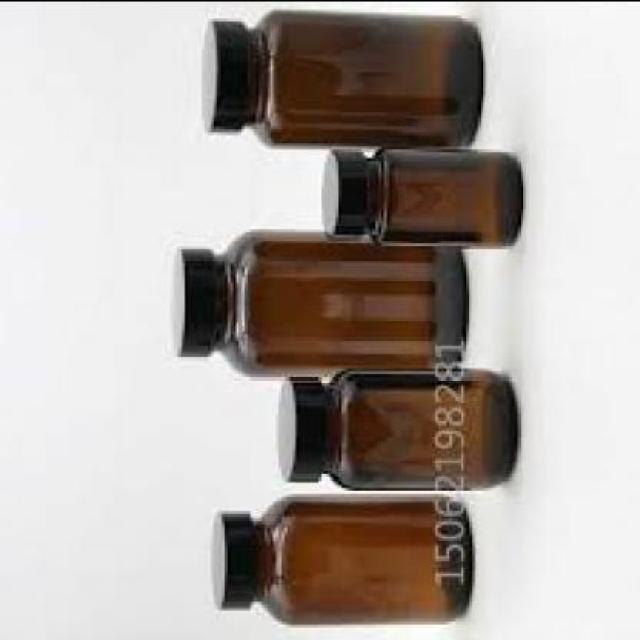glass: (211, 234, 469, 378), (248, 12, 484, 148), (254, 498, 472, 630), (322, 366, 518, 492), (364, 150, 522, 248)
metal: (198, 23, 251, 134), (168, 251, 220, 358), (277, 382, 331, 483), (211, 516, 260, 612), (318, 154, 368, 243)
